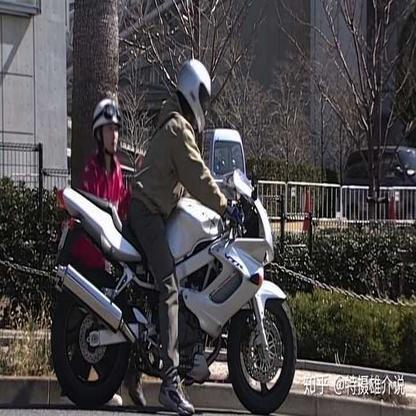target: (49, 58, 298, 410)
